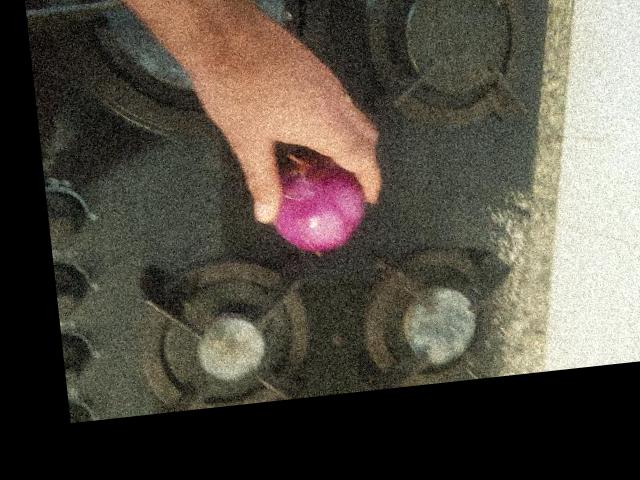onion: (264, 152, 371, 261)
